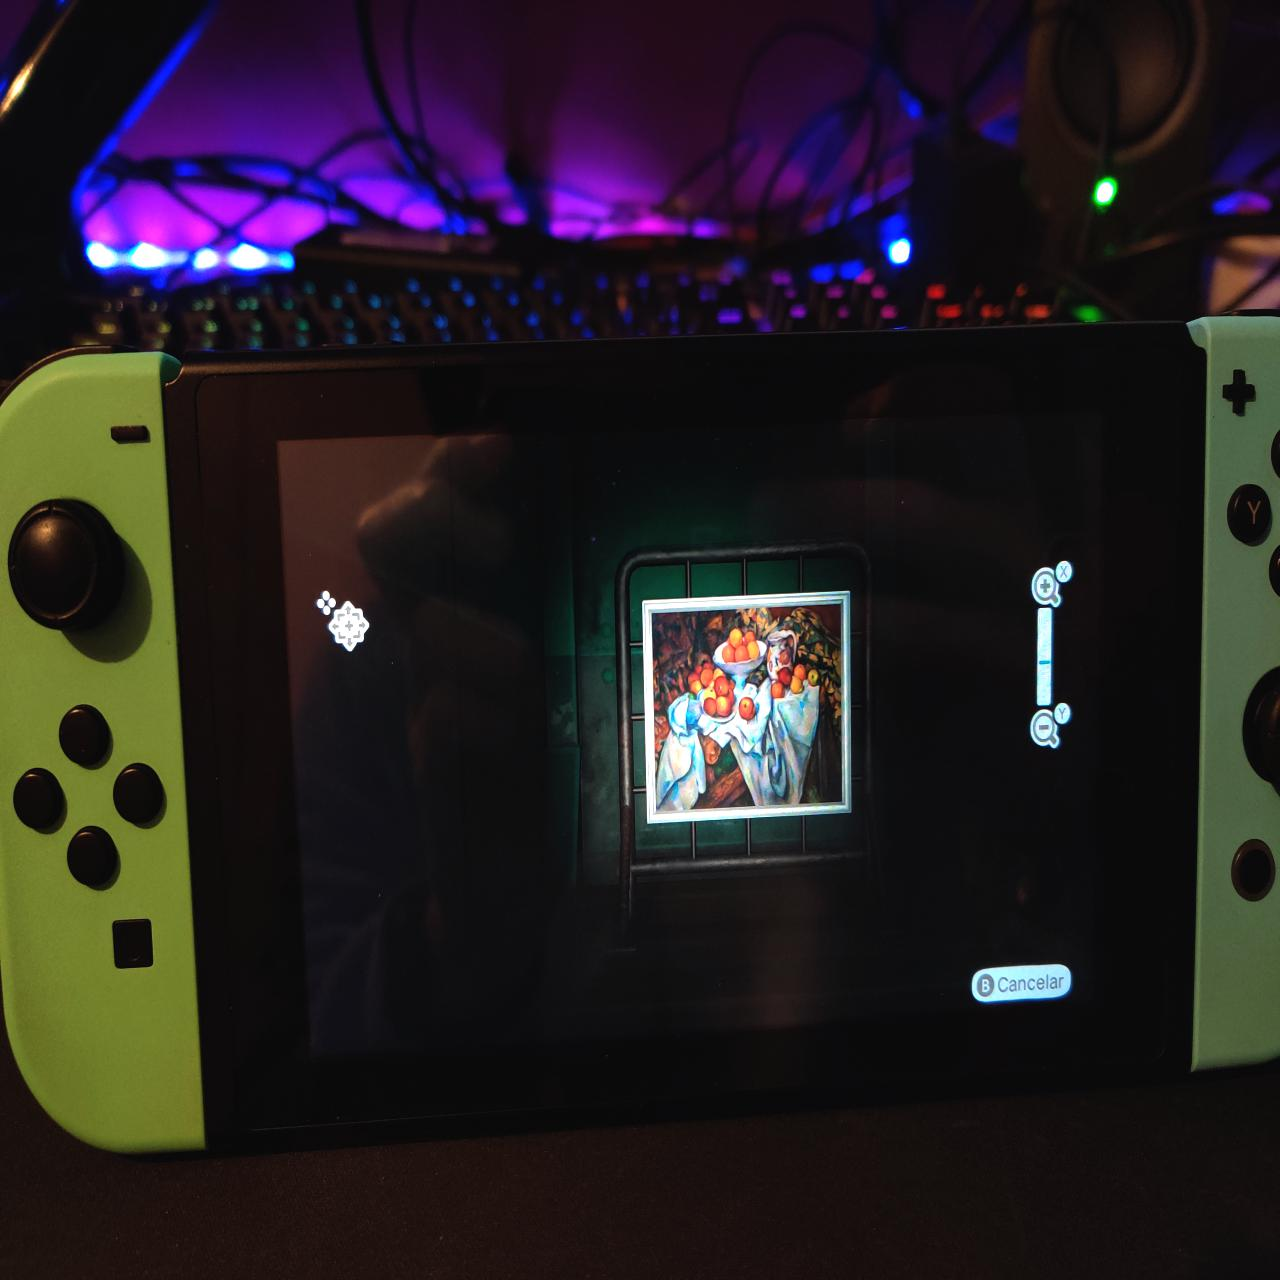AppleOrange: (654, 604, 844, 813)
